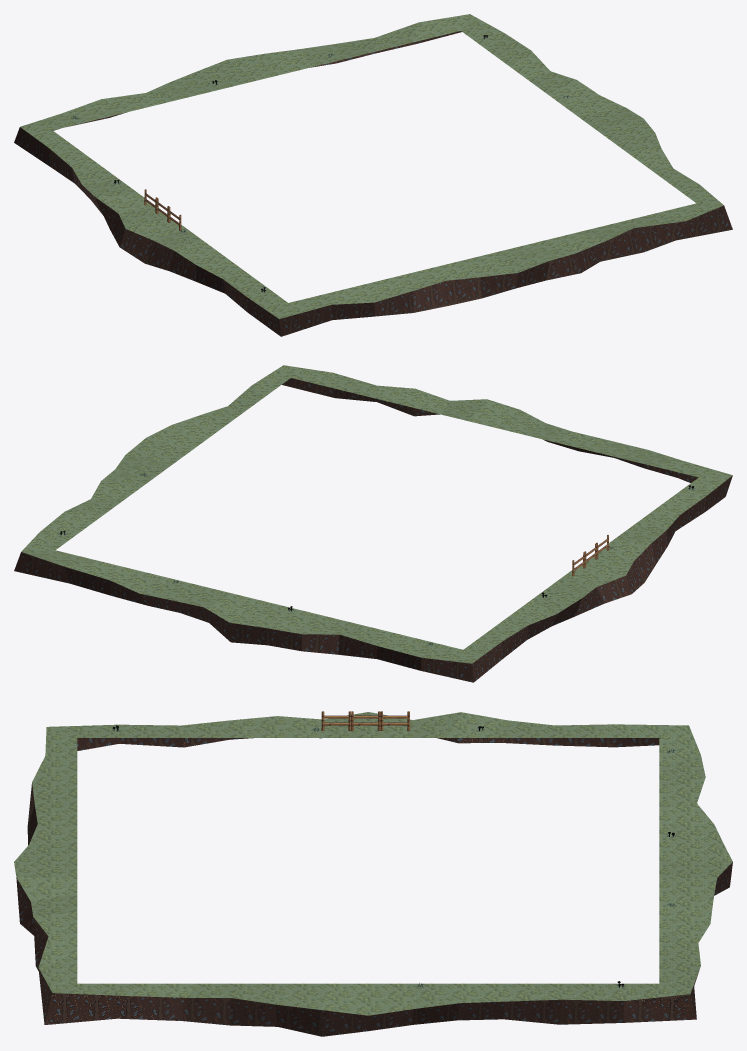
The model's file is entorno_18.fbx.
3 renders of one model, top to bottom at view 1: azimuth 30°, elevation 25°; view 2: azimuth 150°, elevation 25°; view 3: azimuth 270°, elevation 25°, orthographic. The views are drawn at different scales.
Parts seen in each view (by area): view 1: bosque_entorno_18; view 2: bosque_entorno_18; view 3: bosque_entorno_18.
Boxes of the visible parts, x1,y1,x2,y2 form: bosque_entorno_18: (14,14,732,336); bosque_entorno_18: (14,365,732,682); bosque_entorno_18: (14,711,732,1036).
Size of the model in its own units: 2260 by 169 by 2249.
7 materials, 5 textured.
